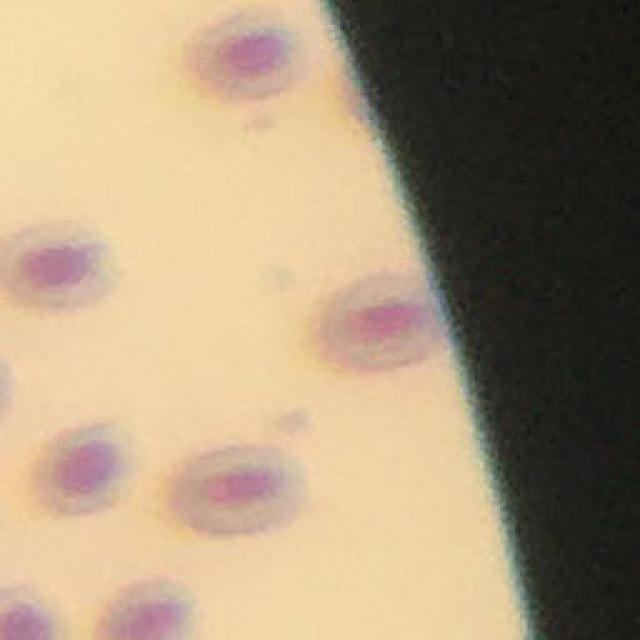RBC: (304, 270, 447, 373), (165, 444, 312, 539), (3, 223, 130, 310), (185, 17, 304, 99), (39, 423, 142, 517), (96, 581, 190, 640), (0, 581, 66, 640)
